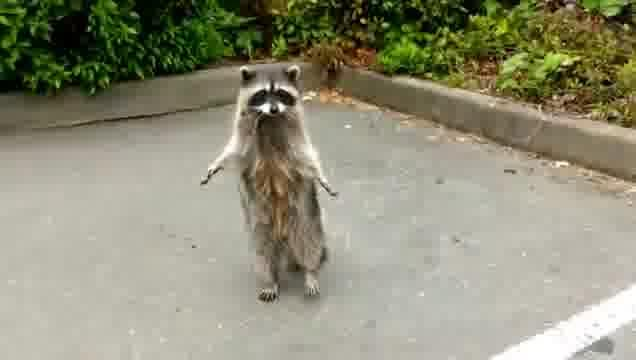raccoon: (196, 61, 346, 305)
